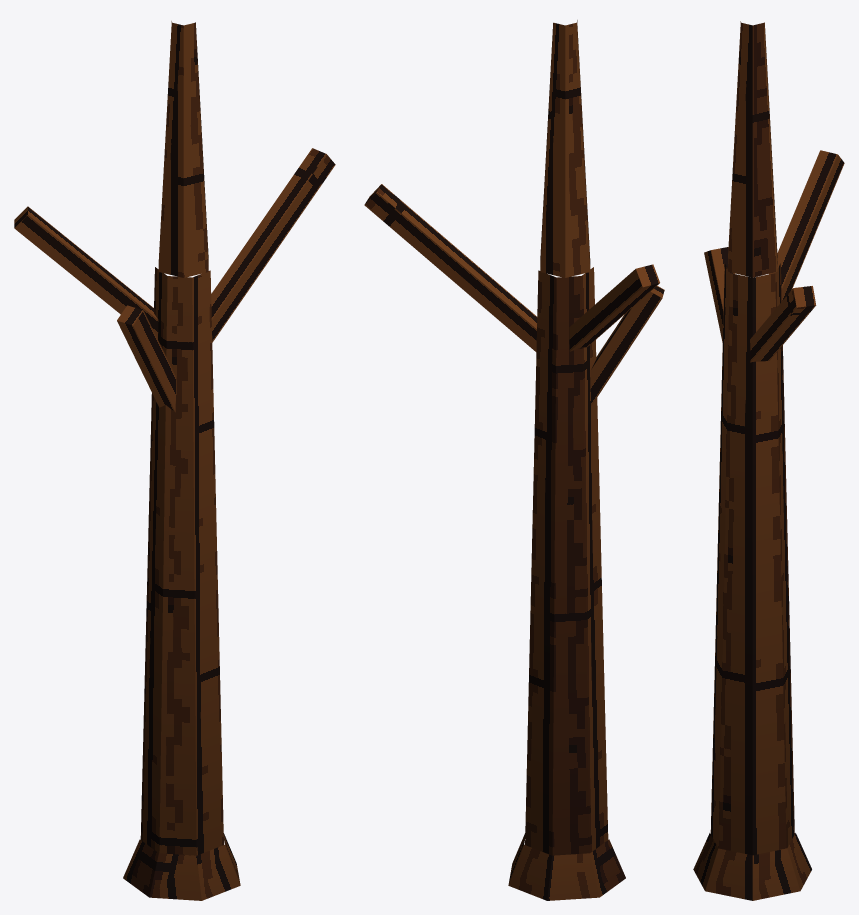
The model's file is birch_3_trunk.glb.
The picture shows the model from 3 angles, left to right: view 1: azimuth 30°, elevation 25°; view 2: azimuth 150°, elevation 25°; view 3: azimuth 270°, elevation 25°; orthographic projection.
Visible parts, largest first — view 1: birch_3_trunk; view 2: birch_3_trunk; view 3: birch_3_trunk.
Part boxes in pixels (bbox=[...]): birch_3_trunk: bbox=[14, 21, 335, 900]; birch_3_trunk: bbox=[364, 20, 664, 900]; birch_3_trunk: bbox=[693, 21, 844, 900].
Bounding box in the file's own units: 2.08 × 5.57 × 0.8931.
Materials: 1 (1 with a texture image).
